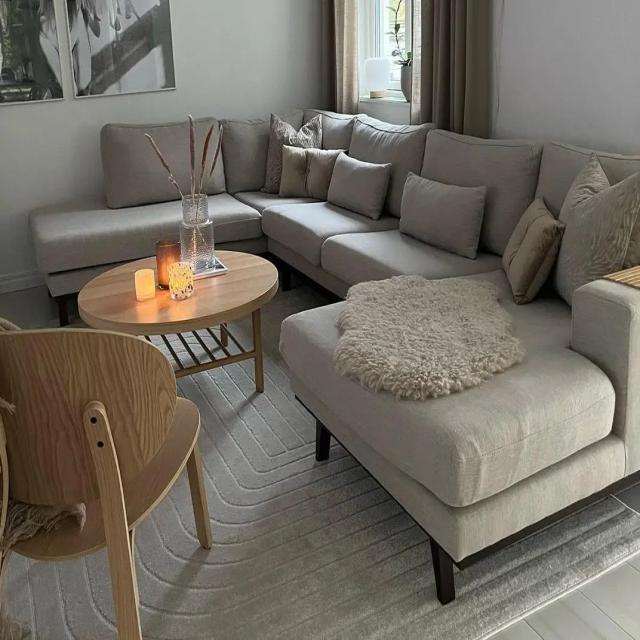modern chair: (2, 317, 215, 640)
modern desk: (78, 244, 276, 403)
modern sofa: (280, 94, 640, 598)
